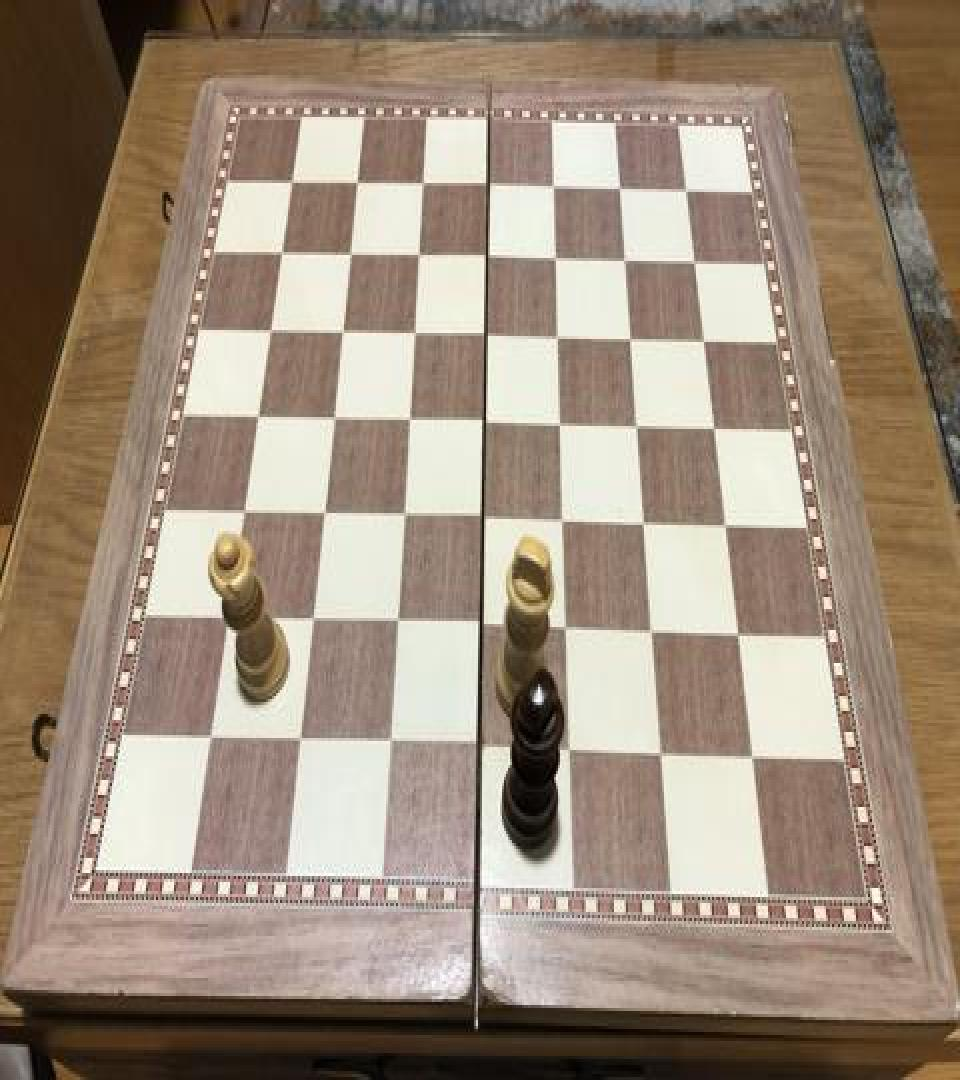xcorner: (555, 610, 579, 647), (217, 601, 241, 638), (673, 174, 697, 210), (541, 171, 565, 207), (475, 171, 499, 207), (410, 170, 434, 206), (345, 168, 369, 204), (280, 168, 304, 204), (681, 244, 705, 280), (612, 243, 636, 279), (543, 242, 567, 278), (475, 242, 499, 278), (406, 240, 430, 276), (338, 238, 362, 274), (270, 237, 294, 273), (691, 322, 715, 358), (618, 321, 642, 357), (546, 321, 570, 357), (474, 320, 498, 356), (402, 318, 426, 354), (330, 316, 354, 352), (259, 315, 283, 351), (702, 410, 726, 446), (625, 408, 649, 444), (549, 406, 573, 442), (473, 405, 497, 441), (397, 404, 421, 440), (322, 402, 346, 438), (247, 400, 271, 436), (714, 507, 738, 543), (632, 506, 656, 542), (552, 502, 576, 538), (471, 501, 495, 537), (391, 500, 415, 536), (312, 496, 336, 532), (233, 495, 257, 531), (727, 615, 751, 651), (641, 614, 665, 650), (470, 609, 494, 645), (385, 606, 409, 642), (301, 603, 325, 639), (742, 738, 766, 774), (650, 735, 674, 771), (559, 732, 583, 768), (469, 729, 493, 765), (379, 726, 403, 762), (289, 723, 313, 759), (200, 720, 224, 756), (607, 173, 631, 208)
